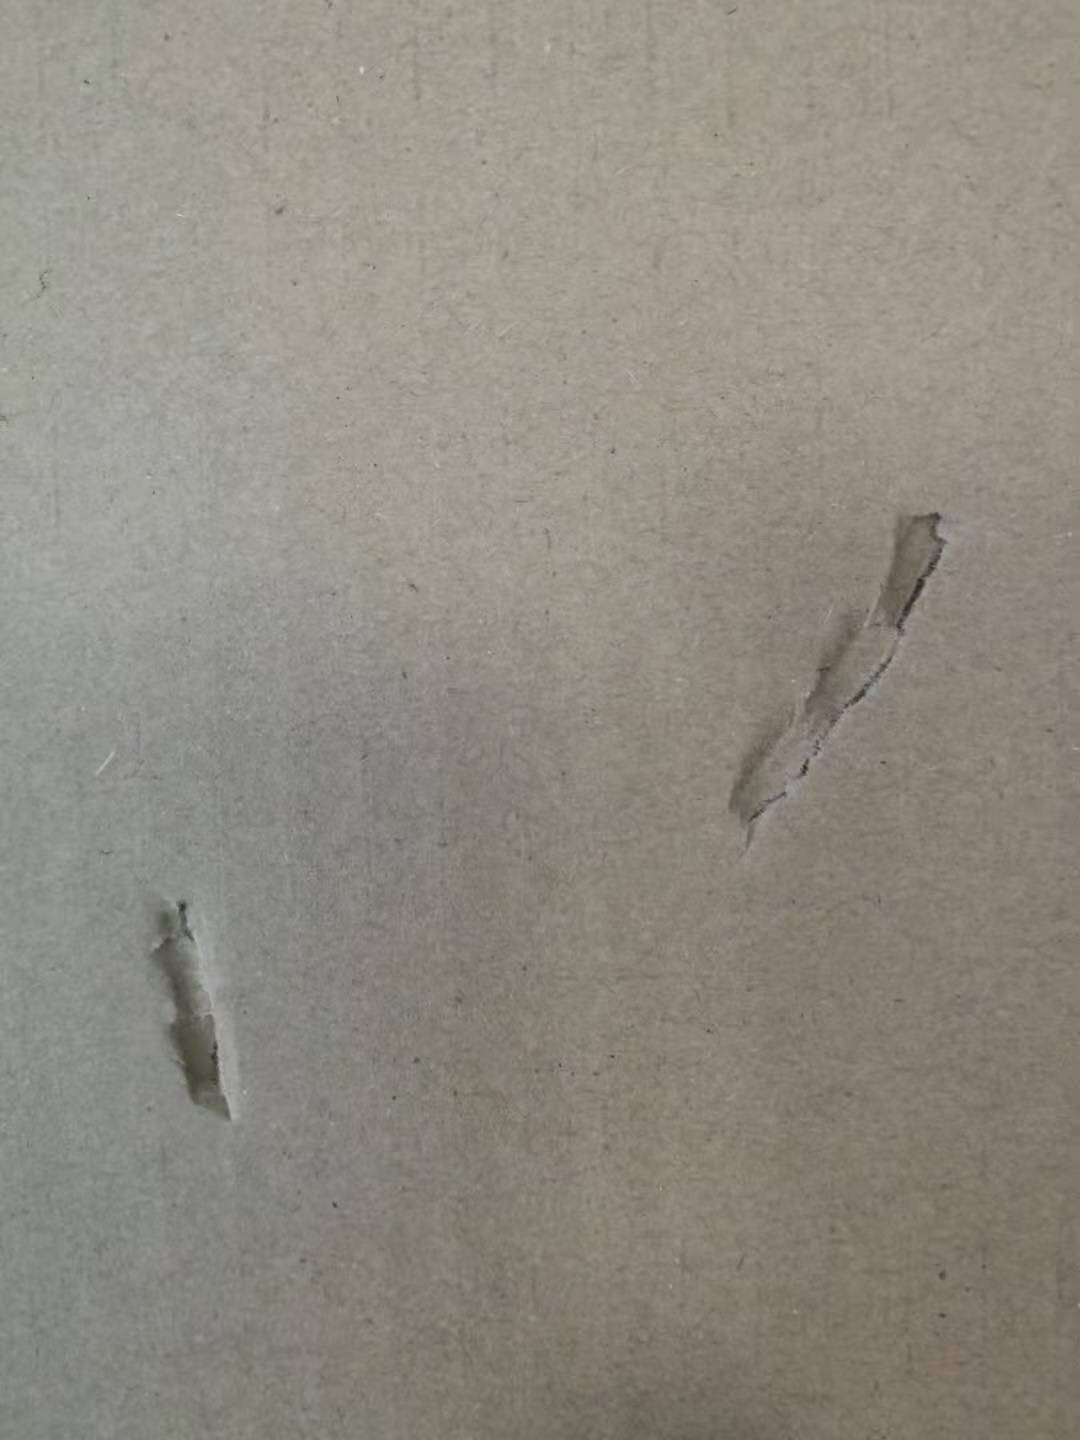defect: (700, 478, 974, 881), (111, 865, 275, 1141)
